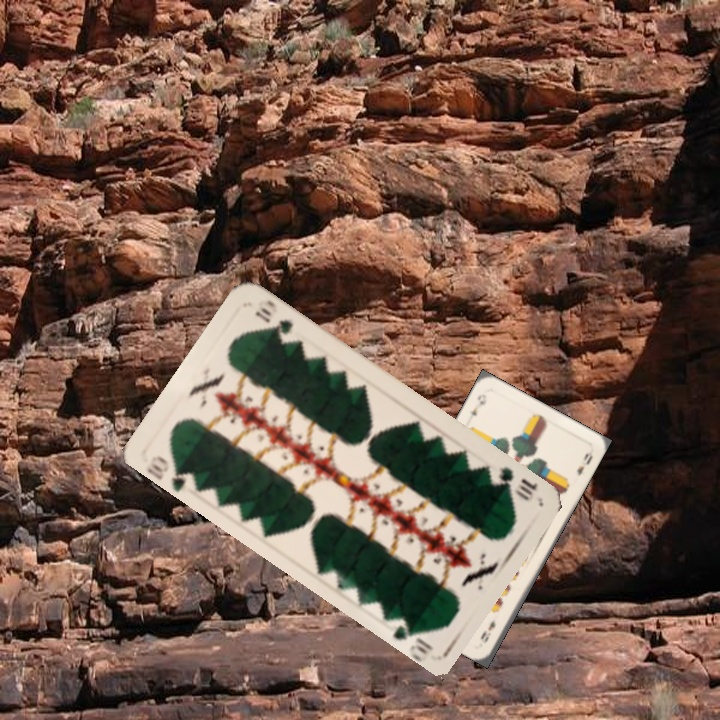E9: (476, 616, 498, 646), (467, 390, 489, 419)
G10: (485, 462, 540, 504), (145, 451, 198, 493)
